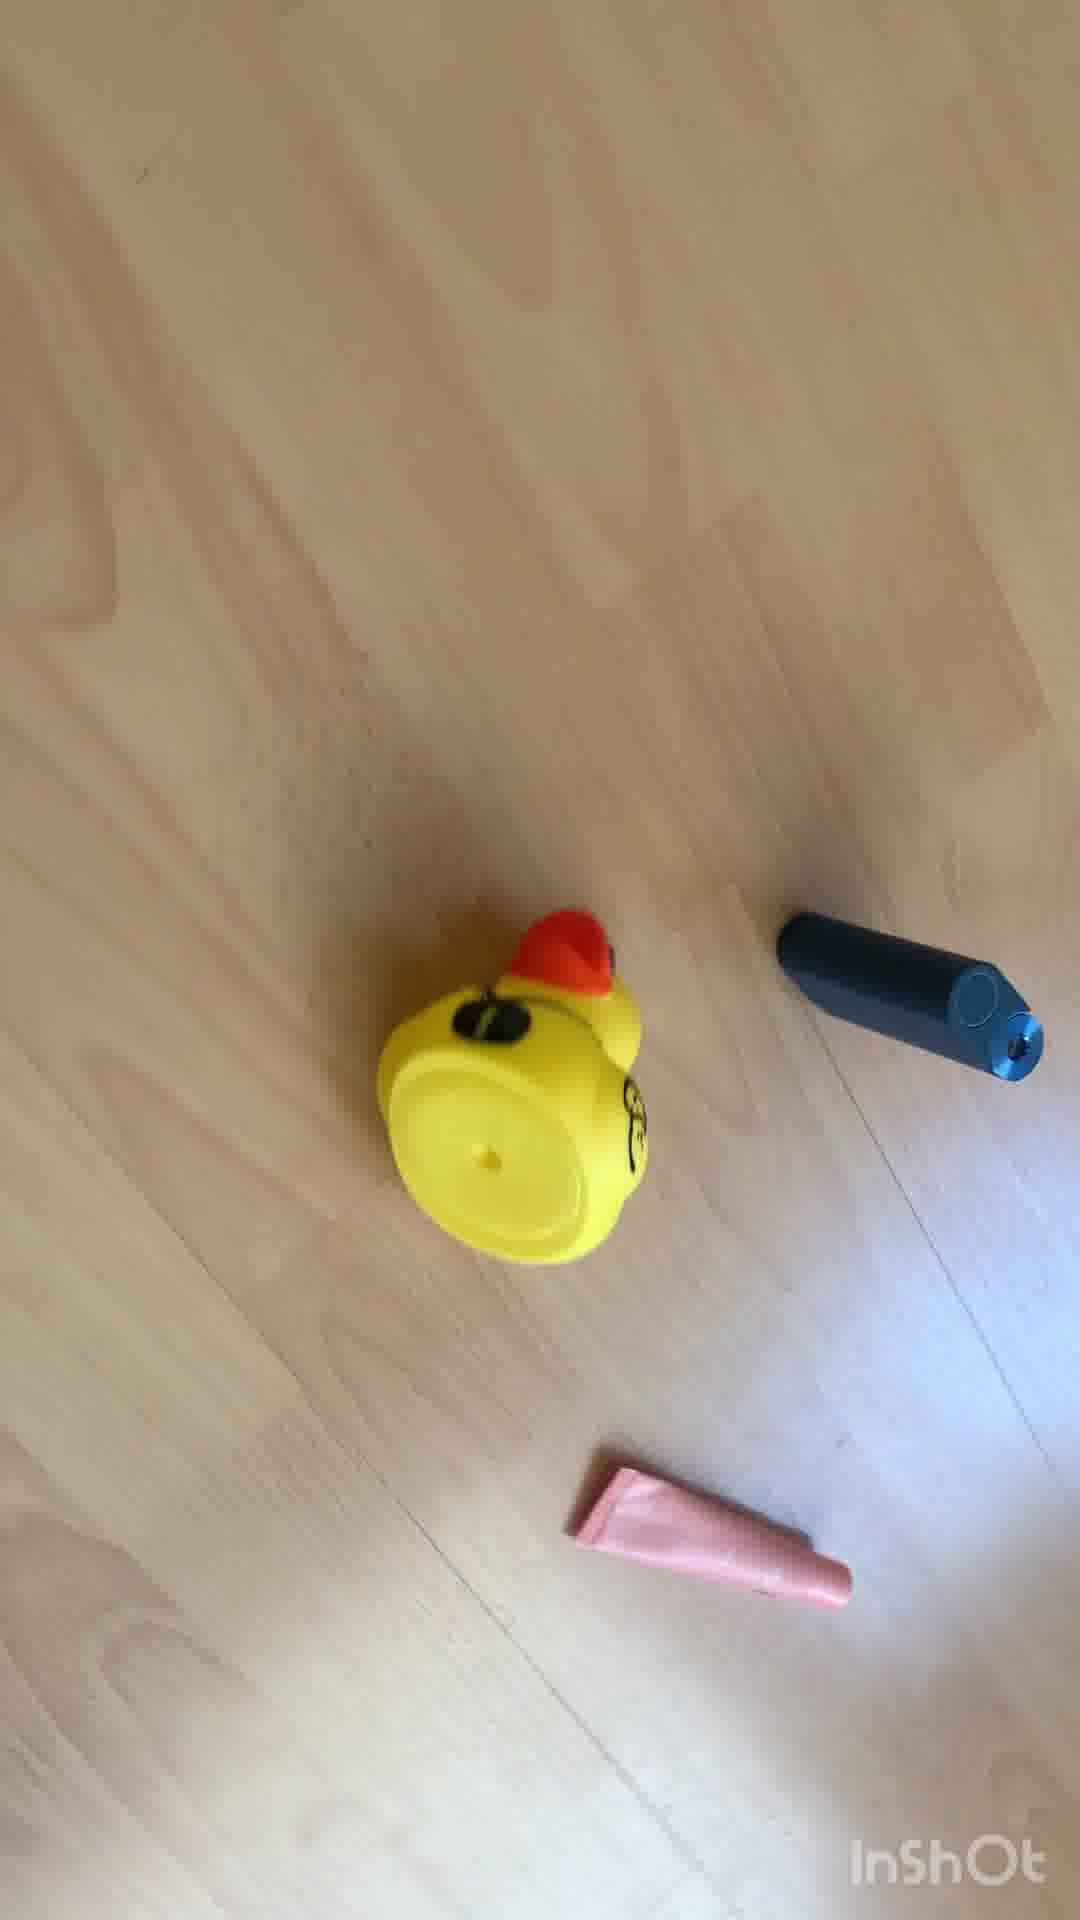duck: (377, 903, 646, 1265)
glo: (774, 909, 1046, 1075)
lip balm: (556, 1462, 851, 1600)
